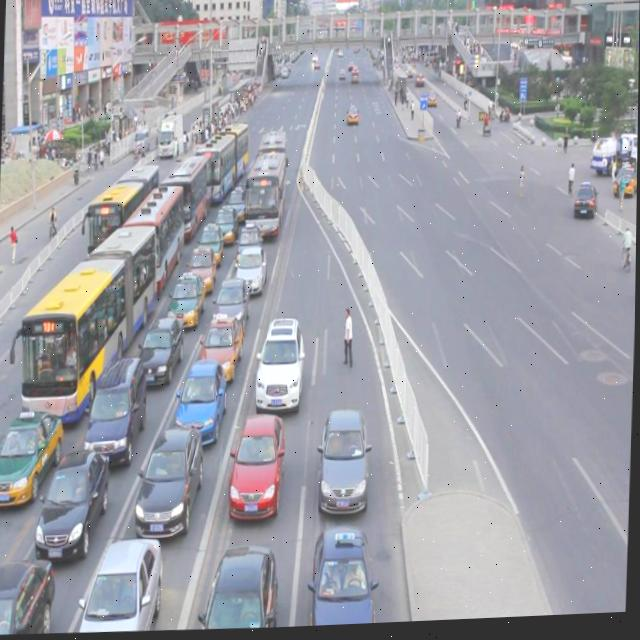car: (35, 453, 111, 562), (81, 541, 164, 634), (137, 432, 205, 543), (309, 529, 380, 629), (87, 360, 147, 468), (201, 550, 279, 632), (0, 410, 63, 506), (229, 419, 287, 522), (317, 415, 372, 518), (256, 324, 307, 416), (177, 364, 228, 448), (0, 561, 55, 635), (140, 320, 185, 390), (201, 319, 244, 386), (213, 281, 251, 341), (169, 275, 206, 330), (235, 253, 267, 298), (188, 252, 217, 295), (197, 225, 223, 267), (237, 227, 263, 266), (212, 208, 238, 247), (570, 183, 596, 222), (611, 168, 638, 203), (226, 190, 248, 227), (345, 107, 359, 128)
van: (9, 227, 158, 429), (79, 167, 162, 262), (117, 185, 186, 299), (194, 125, 249, 207), (160, 158, 212, 243), (245, 156, 286, 240), (257, 134, 288, 200)
